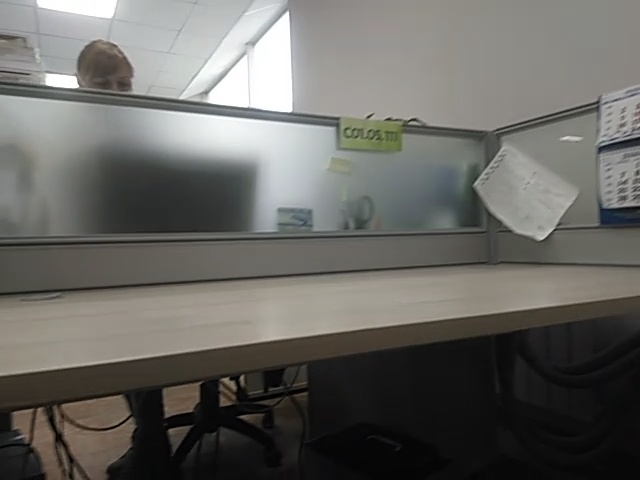table: (337, 116, 403, 150)
